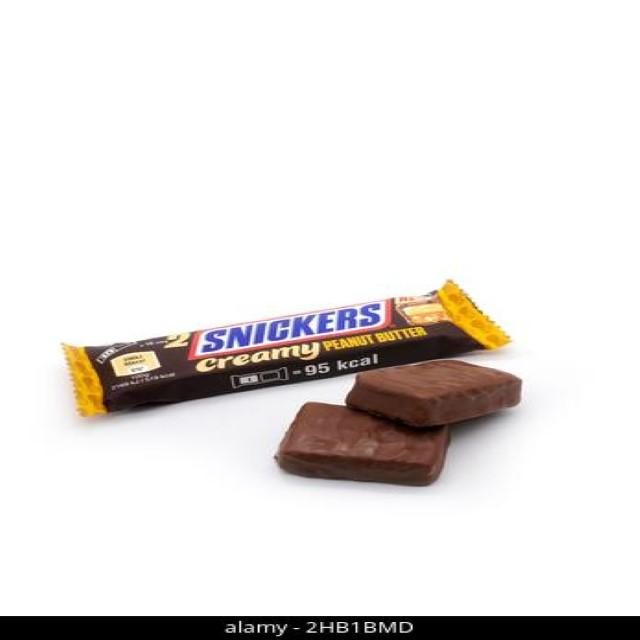snickers_chocolate: (85, 283, 465, 422)
